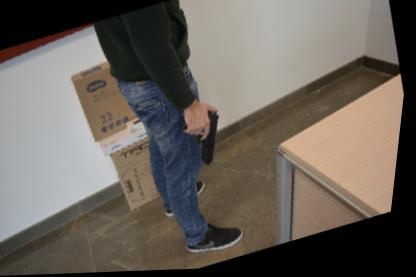pistol: (178, 105, 233, 170)
